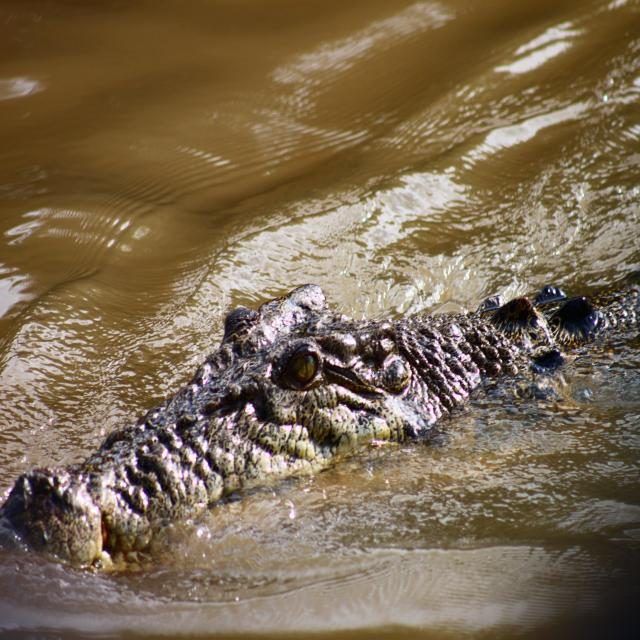crocodile: (0, 187, 640, 623)
